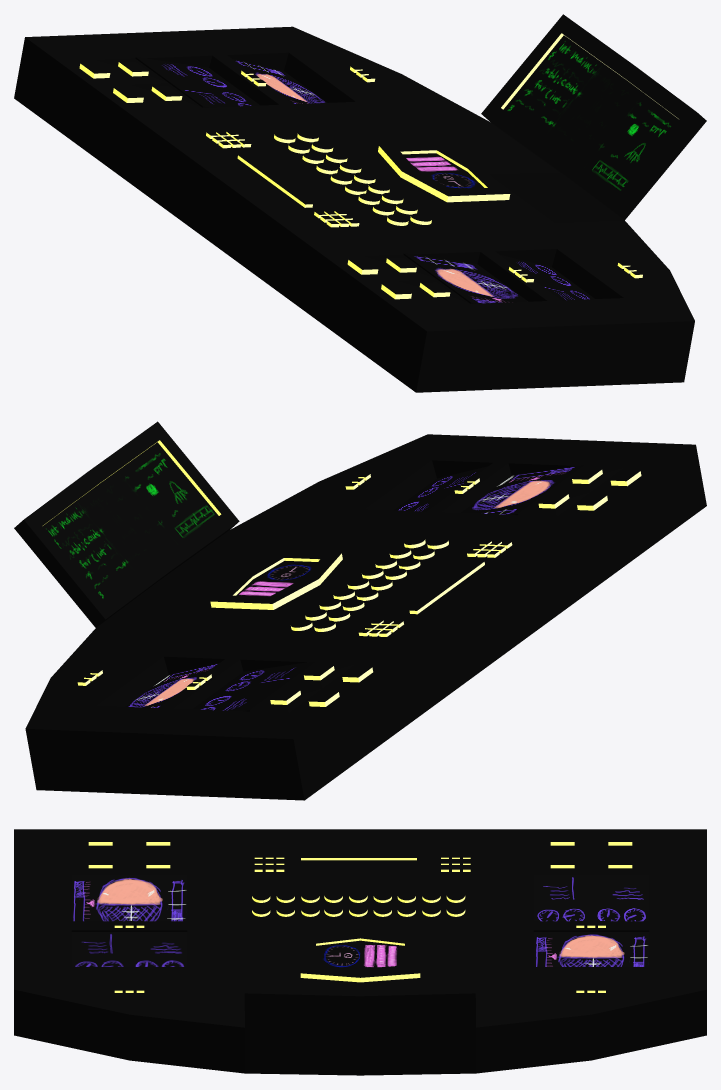
File: SpaceshipDashboard.fbx
3 views of the same model, one above another, from view 1: azimuth 30°, elevation 25°; view 2: azimuth 150°, elevation 25°; view 3: azimuth 270°, elevation 25° (orthographic). The views are drawn at different scales.
Visible parts, largest first — view 1: SpaceshipDashboard; view 2: SpaceshipDashboard; view 3: SpaceshipDashboard.
Boxes of the visible parts, x1=… form: SpaceshipDashboard: x1=14, y1=14, x2=706, y2=392; SpaceshipDashboard: x1=14, y1=421, x2=706, y2=800; SpaceshipDashboard: x1=14, y1=829, x2=706, y2=1075.
Bounding box in the file's own units: 457 × 153 × 744.
